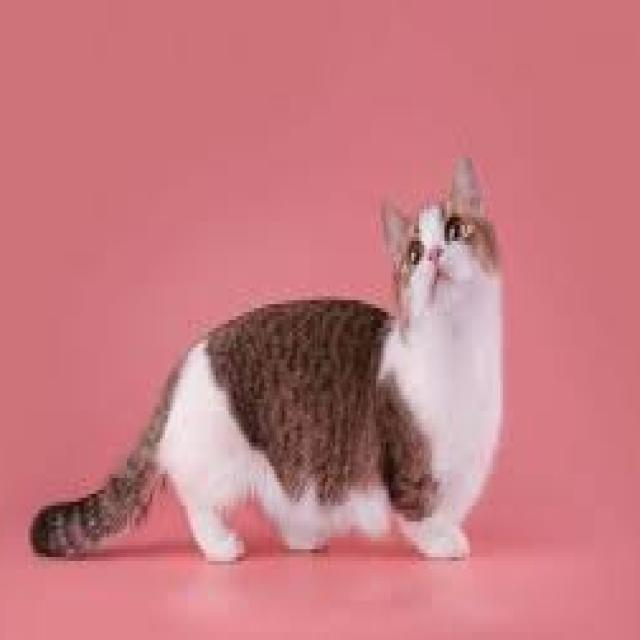Munchkin: (25, 147, 511, 571)
